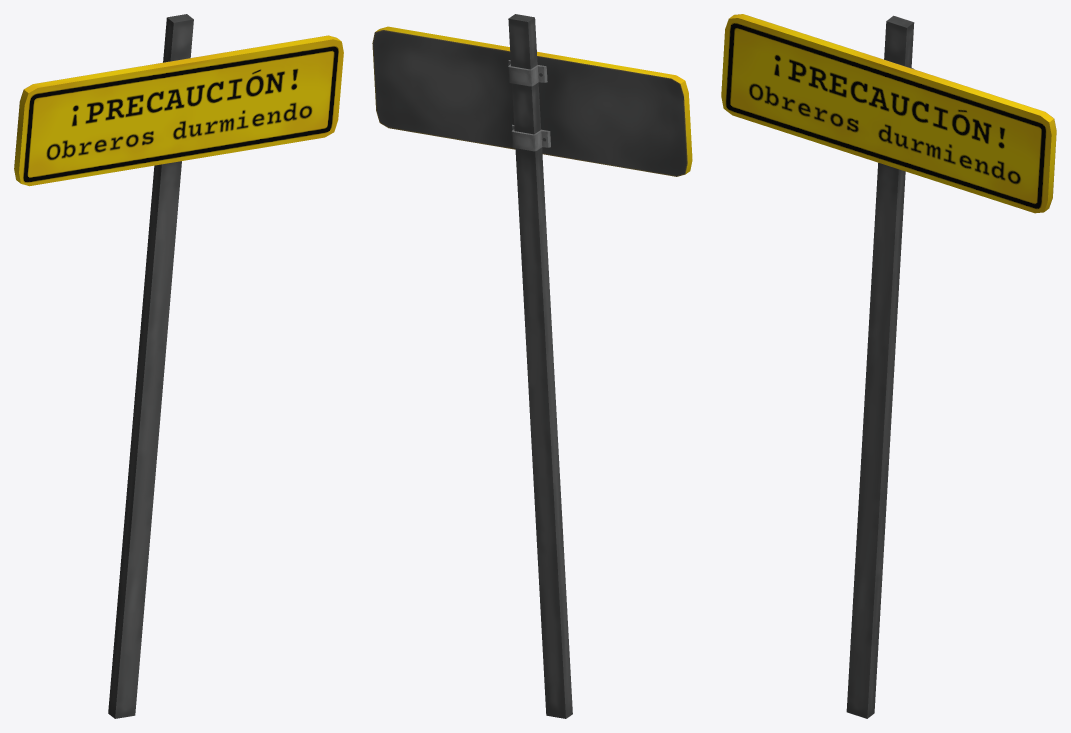
The model's file is version4cartel.fbx.
The picture shows the model from 3 angles, left to right: view 1: azimuth 30°, elevation 25°; view 2: azimuth 150°, elevation 25°; view 3: azimuth 330°, elevation 25°; orthographic projection. The views are drawn at different scales.
Parts seen in each view (by area): view 1: rectangulo corto; view 2: rectangulo corto; view 3: rectangulo corto.
Boxes of the visible parts, bbox=[...] form: rectangulo corto: bbox=[14, 14, 343, 718]; rectangulo corto: bbox=[372, 14, 692, 718]; rectangulo corto: bbox=[721, 14, 1056, 718].
Bounding box in the file's own units: 2.78 × 5.71 × 0.3265.
